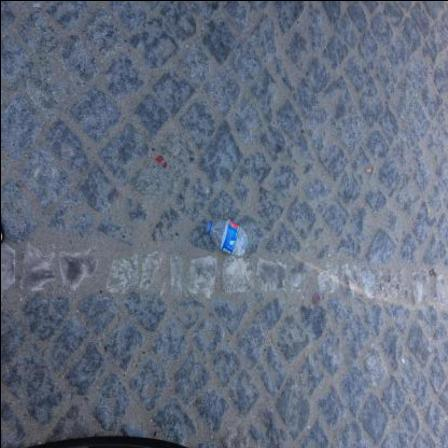Bottle: (206, 220, 248, 258)
Cigarette: (366, 168, 372, 174), (401, 357, 405, 365), (33, 4, 41, 8)
Other plastic: (220, 219, 238, 255)
